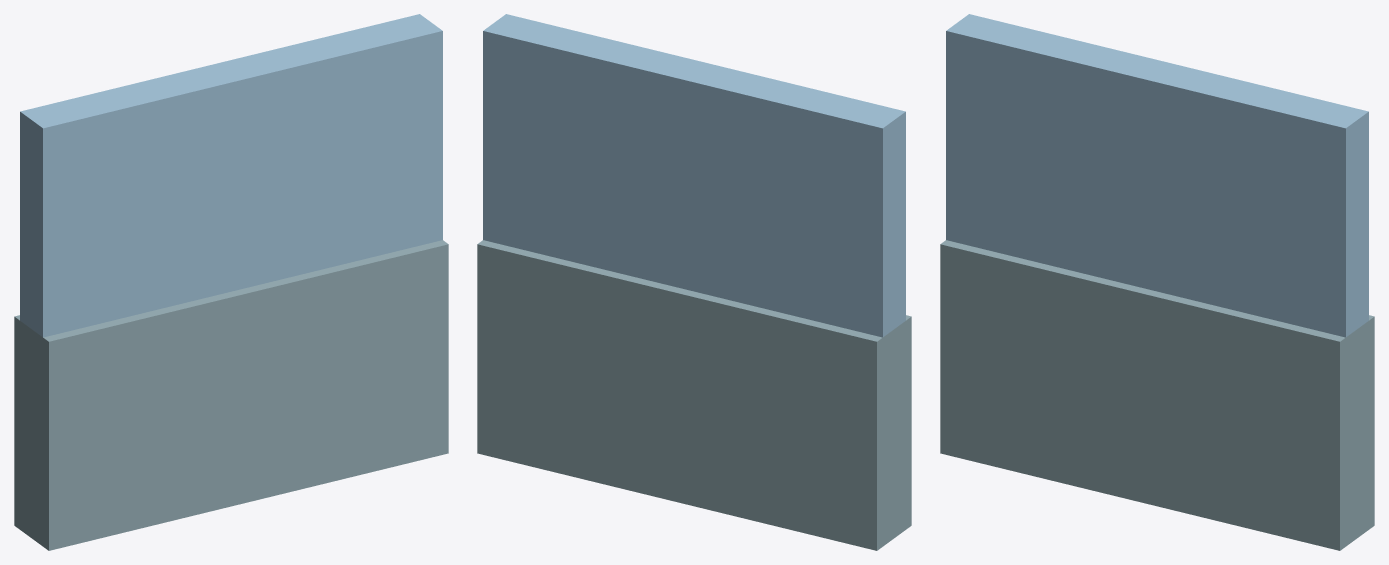
Rendered from Office-Room-2-Wall-2.fbx.
3 views of the same model, side by side, from view 1: azimuth 30°, elevation 25°; view 2: azimuth 150°, elevation 25°; view 3: azimuth 330°, elevation 25° (orthographic).
Visible parts, largest first — view 1: Office-Door-2-Wall-2; view 2: Office-Door-2-Wall-2; view 3: Office-Door-2-Wall-2.
Boxes of the visible parts, box(x1,y1,x2,y2) form: Office-Door-2-Wall-2: box(14, 14, 448, 550); Office-Door-2-Wall-2: box(477, 14, 911, 550); Office-Door-2-Wall-2: box(940, 14, 1374, 550).
Size of the model in its own units: 2 by 2 by 0.3.
